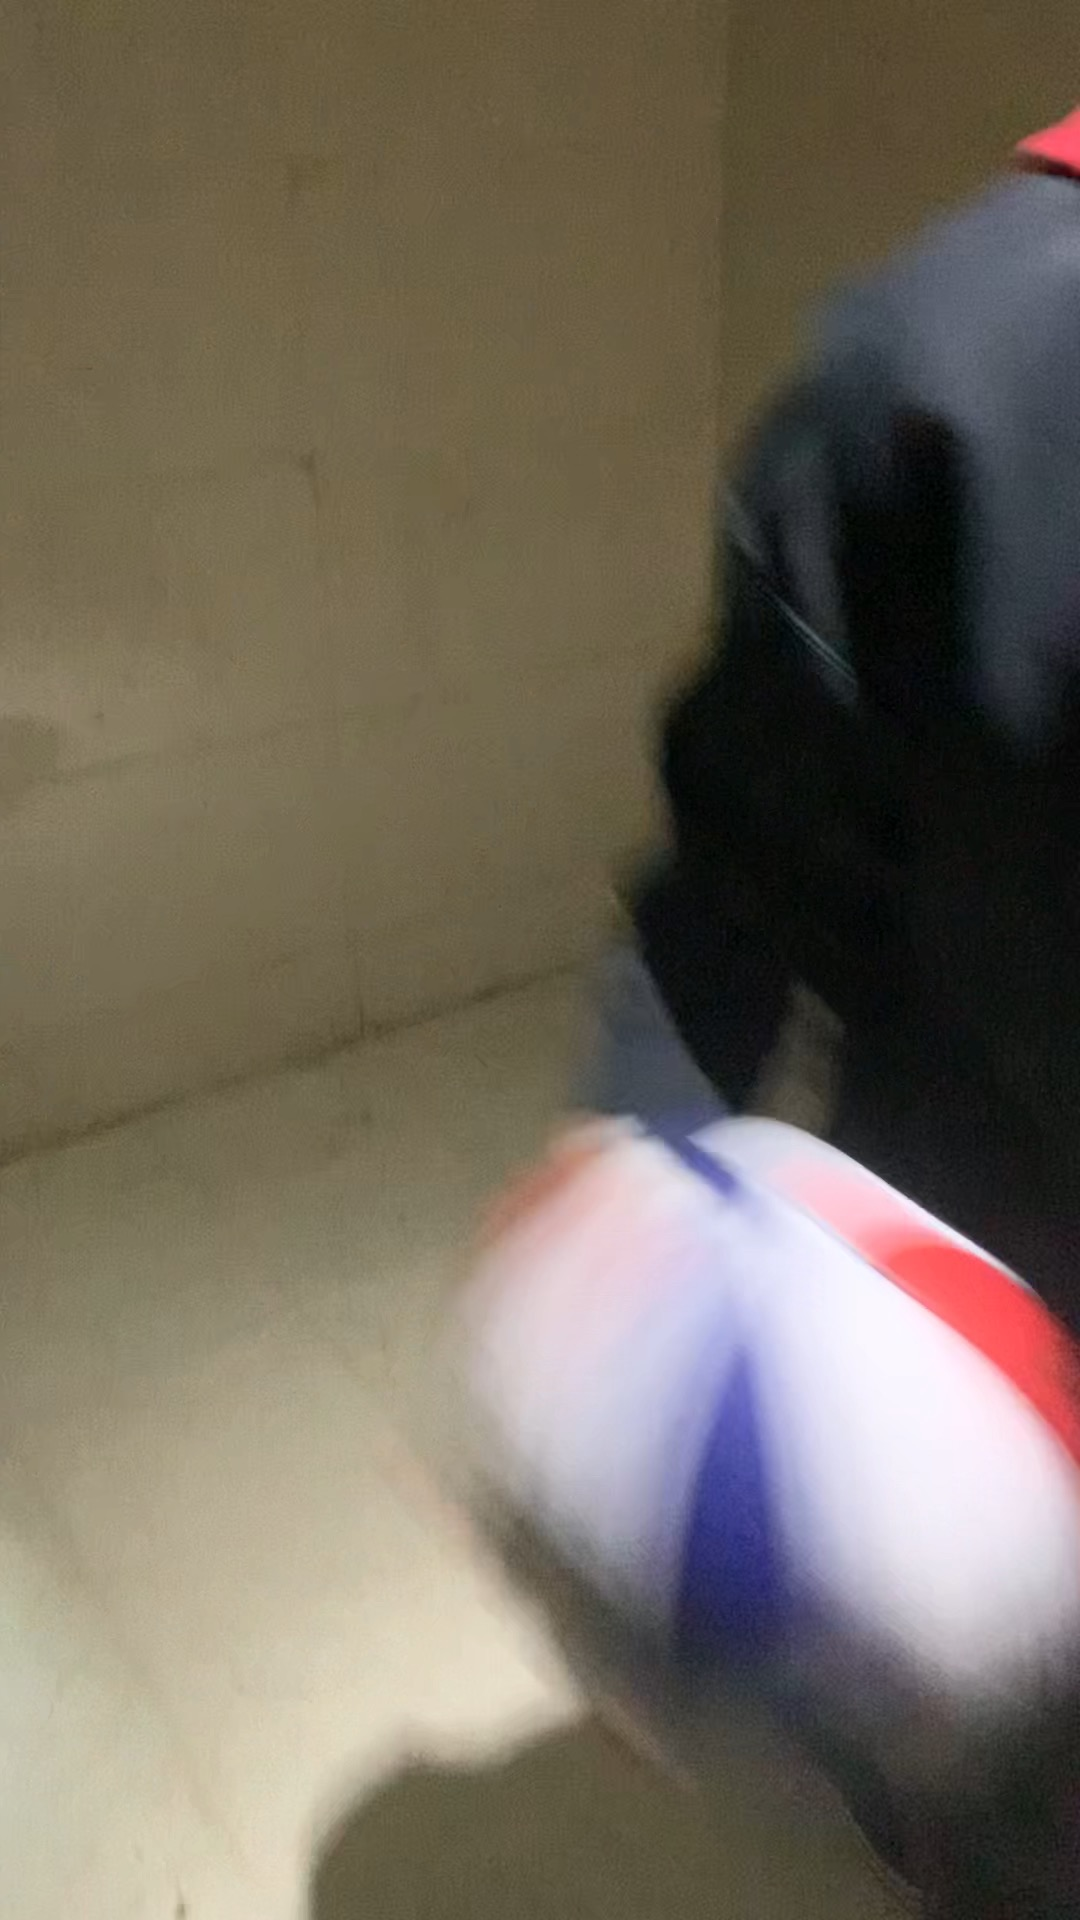ball: (454, 1114, 1080, 1815)
